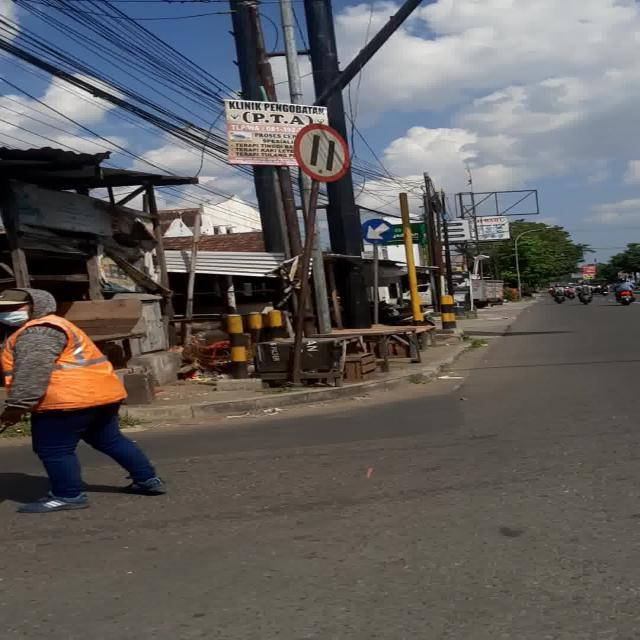Larangan Muatan - 10 ton: (294, 124, 349, 182)
